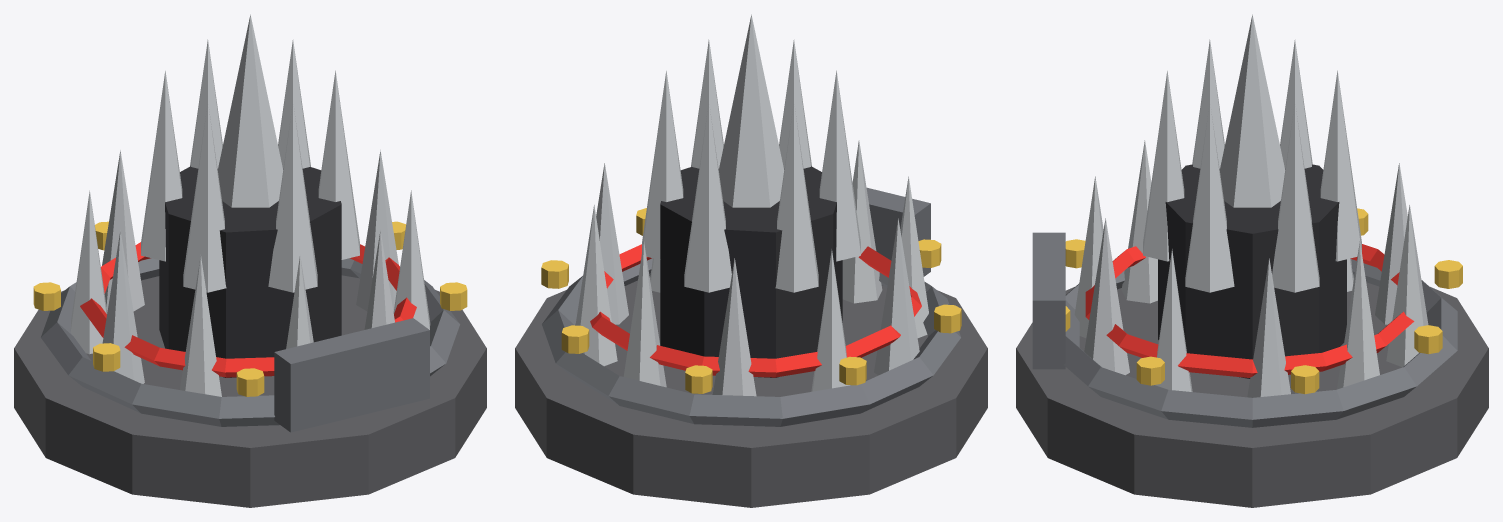
The model's file is TD_SpikeTower_T2.fbx.
3 views of the same model, side by side, from view 1: azimuth 30°, elevation 25°; view 2: azimuth 150°, elevation 25°; view 3: azimuth 270°, elevation 25° (orthographic).
Visible parts, largest first — view 1: TD_SpikeTower_T2_Base, TD_SpikeTower_T2_Core, TD_SpikeTower_T2_FrontDarkArmorPlate, TD_SpikeTower_T2_DarkMetalFrame, TD_SpikeTower_T2_CentralLargeSpike, TD_SpikeTower_T2_InnerSpike_05, TD_SpikeTower_T2_InnerSpike_04, TD_SpikeTower_T2_WarningRing, TD_SpikeTower_T2_InnerSpike_03, TD_SpikeTower_T2_InnerSpike_06, TD_SpikeTower_T2_OuterSpike_07, TD_SpikeTower_T2_OuterSpike_05 (+12 smaller); view 2: TD_SpikeTower_T2_Base, TD_SpikeTower_T2_Core, TD_SpikeTower_T2_DarkMetalFrame, TD_SpikeTower_T2_CentralLargeSpike, TD_SpikeTower_T2_WarningRing, TD_SpikeTower_T2_InnerSpike_02, TD_SpikeTower_T2_InnerSpike_03, TD_SpikeTower_T2_InnerSpike_04, TD_SpikeTower_T2_InnerSpike_01, TD_SpikeTower_T2_OuterSpike_06, TD_SpikeTower_T2_OuterSpike_04, TD_SpikeTower_T2_OuterSpike_03 (+14 smaller); view 3: TD_SpikeTower_T2_Base, TD_SpikeTower_T2_Core, TD_SpikeTower_T2_DarkMetalFrame, TD_SpikeTower_T2_CentralLargeSpike, TD_SpikeTower_T2_WarningRing, TD_SpikeTower_T2_InnerSpike_06, TD_SpikeTower_T2_InnerSpike_01, TD_SpikeTower_T2_FrontDarkArmorPlate, TD_SpikeTower_T2_InnerSpike_05, TD_SpikeTower_T2_InnerSpike_02, TD_SpikeTower_T2_OuterSpike_09, TD_SpikeTower_T2_OuterSpike_01 (+13 smaller).
Part boxes in pixels (box(x1,y1,x2,y2)): TD_SpikeTower_T2_Base: box(14, 275, 486, 507); TD_SpikeTower_T2_Core: box(159, 166, 341, 377); TD_SpikeTower_T2_FrontDarkArmorPlate: box(274, 318, 429, 432); TD_SpikeTower_T2_DarkMetalFrame: box(41, 258, 459, 426); TD_SpikeTower_T2_CentralLargeSpike: box(217, 14, 283, 207); TD_SpikeTower_T2_InnerSpike_05: box(268, 102, 317, 292); TD_SpikeTower_T2_InnerSpike_04: box(183, 102, 226, 292); TD_SpikeTower_T2_WarningRing: box(80, 242, 416, 377); TD_SpikeTower_T2_InnerSpike_03: box(141, 70, 182, 261); TD_SpikeTower_T2_InnerSpike_06: box(318, 70, 359, 259); TD_SpikeTower_T2_OuterSpike_07: box(180, 254, 221, 396); TD_SpikeTower_T2_OuterSpike_05: box(70, 190, 107, 354); TD_SpikeTower_T2_Base: box(515, 277, 987, 507); TD_SpikeTower_T2_Core: box(660, 166, 842, 377); TD_SpikeTower_T2_DarkMetalFrame: box(542, 258, 960, 426); TD_SpikeTower_T2_CentralLargeSpike: box(718, 14, 784, 207); TD_SpikeTower_T2_WarningRing: box(590, 244, 921, 377); TD_SpikeTower_T2_InnerSpike_02: box(684, 102, 731, 292); TD_SpikeTower_T2_InnerSpike_03: box(775, 102, 818, 292); TD_SpikeTower_T2_InnerSpike_04: box(819, 70, 860, 261); TD_SpikeTower_T2_InnerSpike_01: box(642, 70, 683, 259); TD_SpikeTower_T2_OuterSpike_06: box(874, 218, 919, 375); TD_SpikeTower_T2_OuterSpike_04: box(712, 258, 756, 396); TD_SpikeTower_T2_OuterSpike_03: box(623, 241, 666, 387); TD_SpikeTower_T2_Base: box(1016, 282, 1488, 507); TD_SpikeTower_T2_Core: box(1158, 164, 1346, 378); TD_SpikeTower_T2_DarkMetalFrame: box(1064, 259, 1457, 427); TD_SpikeTower_T2_CentralLargeSpike: box(1219, 14, 1285, 207); TD_SpikeTower_T2_WarningRing: box(1085, 244, 1414, 377); TD_SpikeTower_T2_InnerSpike_06: box(1185, 102, 1234, 292); TD_SpikeTower_T2_InnerSpike_01: box(1272, 102, 1319, 292); TD_SpikeTower_T2_FrontDarkArmorPlate: box(1032, 232, 1065, 369); TD_SpikeTower_T2_InnerSpike_05: box(1143, 70, 1184, 261); TD_SpikeTower_T2_InnerSpike_02: box(1320, 70, 1361, 261); TD_SpikeTower_T2_OuterSpike_09: box(1084, 218, 1129, 375); TD_SpikeTower_T2_OuterSpike_01: box(1247, 258, 1290, 397).
Bounding box in the file's own units: 1 × 0.92 × 1.
